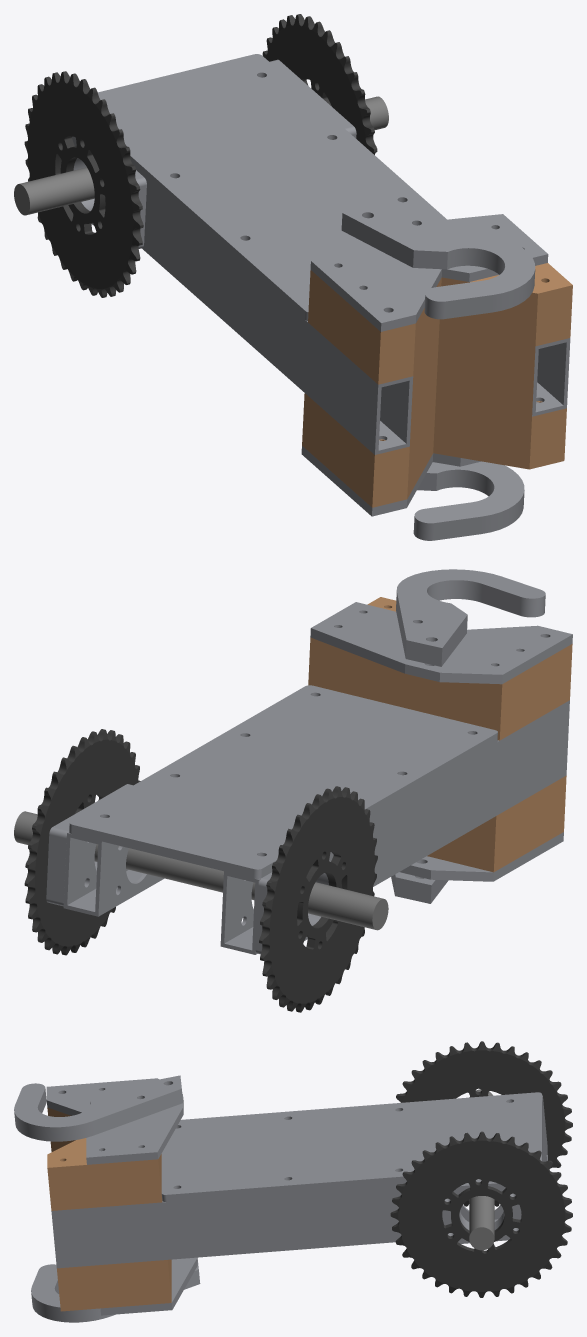
The picture shows the model from 3 angles, top to bottom: view 1: azimuth 30°, elevation 25°; view 2: azimuth 150°, elevation 25°; view 3: azimuth 270°, elevation 25°; orthographic projection. The views are drawn at different scales.
Visible parts, largest first — view 1: 25.05_Assembly <1>, 36t Bearing Bore Plate 35 Chain Sprocket (217-2649) (×2), Part 10; view 2: 25.05_Assembly <1>, 36t Bearing Bore Plate 35 Chain Sprocket (217-2649) (×2), Part 10; view 3: 25.05_Assembly <1>, 36t Bearing Bore Plate 35 Chain Sprocket (217-2649) (×2), Part 10.
Part boxes in pixels (x1,y1,x2,y2): 25.05_Assembly <1>: (72, 54, 572, 540); 36t Bearing Bore Plate 35 Chain Sprocket (217-2649) (×2): (24, 14, 377, 297); Part 10: (14, 96, 388, 215); 25.05_Assembly <1>: (46, 569, 572, 954); 36t Bearing Bore Plate 35 Chain Sprocket (217-2649) (×2): (24, 729, 377, 1012); Part 10: (14, 811, 388, 930); 25.05_Assembly <1>: (14, 1075, 547, 1322); 36t Bearing Bore Plate 35 Chain Sprocket (217-2649) (×2): (390, 1041, 572, 1297); Part 10: (469, 1089, 494, 1250).
Size of the model in its own units: 0.2055 by 0.1496 by 0.3515.
